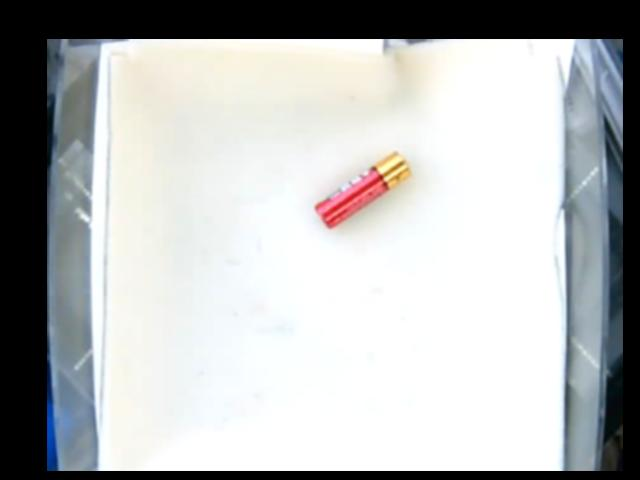Battery: (312, 149, 413, 228)
